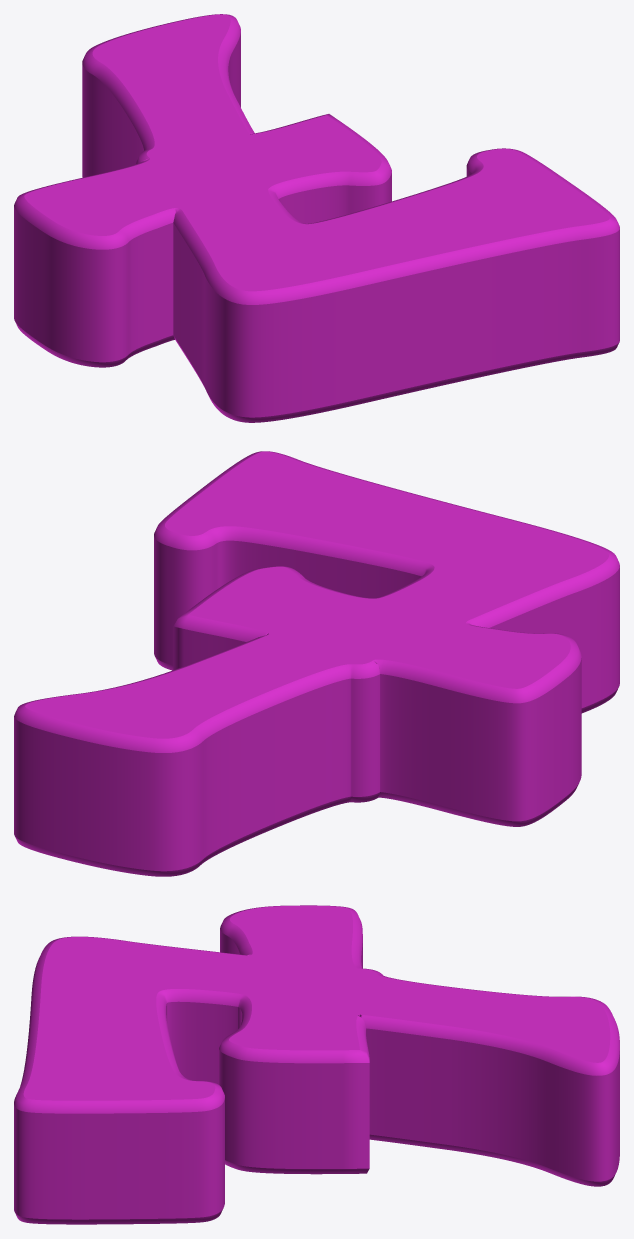
Rendered from Bubble_Number7.fbx.
3 views of the same model, one above another, from view 1: azimuth 30°, elevation 25°; view 2: azimuth 150°, elevation 25°; view 3: azimuth 270°, elevation 25° (orthographic). The views are drawn at different scales.
Parts seen in each view (by area): view 1: BubbleNumber_7; view 2: BubbleNumber_7; view 3: BubbleNumber_7.
Part boxes in pixels (x1=…): BubbleNumber_7: x1=14, y1=14, x2=619, y2=422; BubbleNumber_7: x1=14, y1=451, x2=619, y2=876; BubbleNumber_7: x1=14, y1=905, x2=619, y2=1224.
Size of the model in its own units: 0.4941 by 0.14 by 0.6228.
